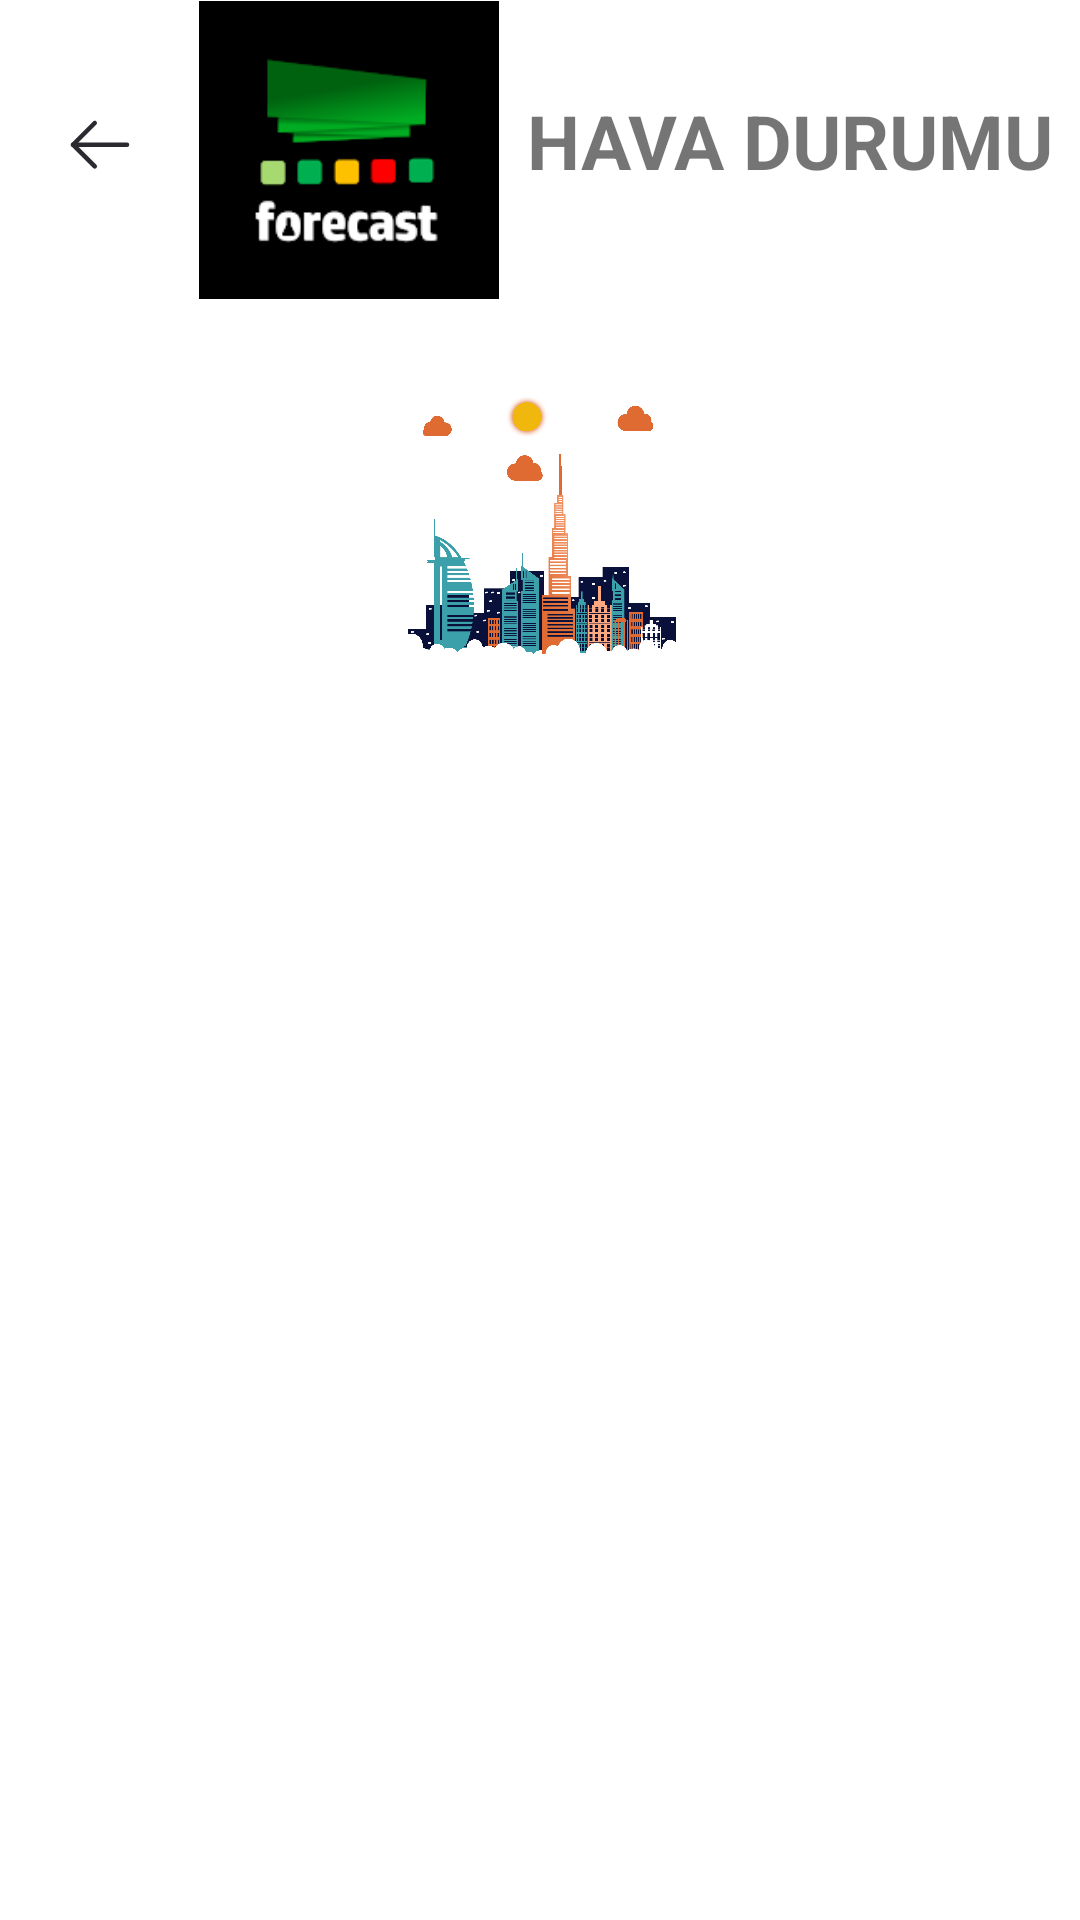

Screen size 1080 × 1920. Icon name, then its center in pixels as [x,y]:
back: [100,144]
